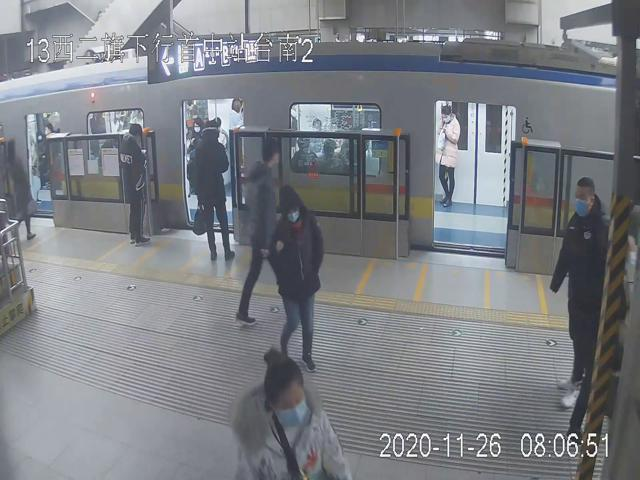person: (271, 187, 322, 369), (194, 119, 236, 263), (119, 120, 151, 246), (438, 104, 462, 208)
